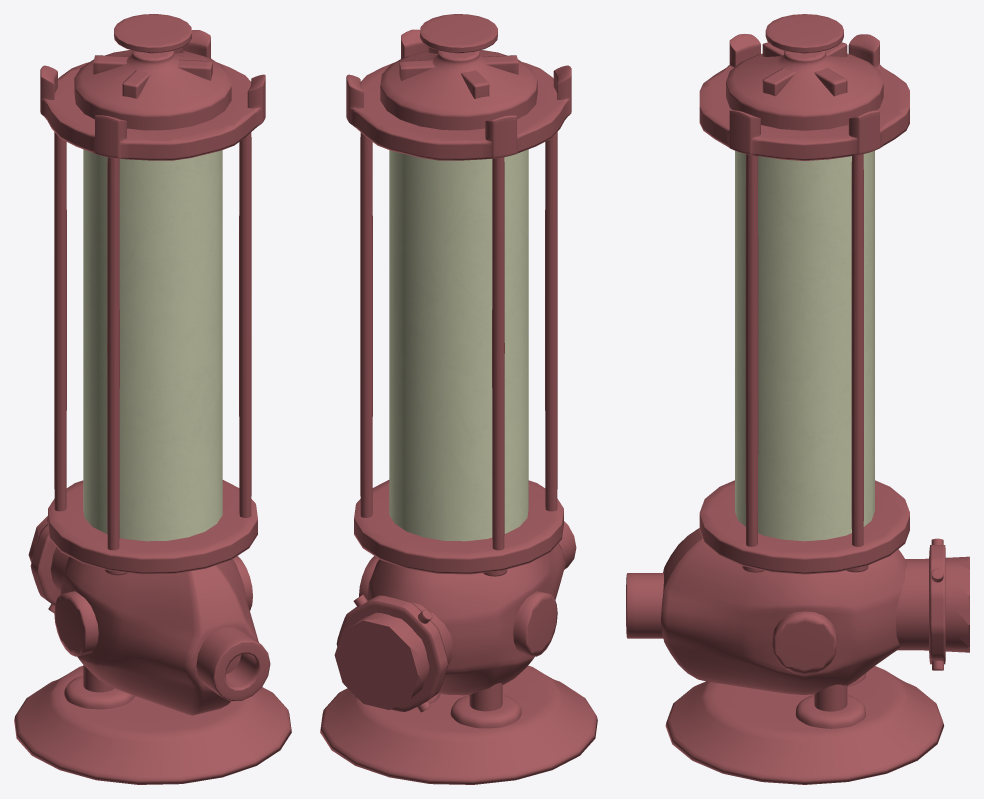
Rendered from Chemblender.glb.
3 renders of one model, left to right at view 1: azimuth 30°, elevation 25°; view 2: azimuth 150°, elevation 25°; view 3: azimuth 270°, elevation 25°, orthographic.
Parts seen in each view (by area): view 1: chemicalblender:body_low; view 2: chemicalblender:body_low; view 3: chemicalblender:body_low.
Part boxes in pixels (x1,y1,x2,y2): chemicalblender:body_low: (14,14,291,784); chemicalblender:body_low: (320,14,597,784); chemicalblender:body_low: (626,14,969,784).
Bounding box in the file's own units: 2.93 × 8.11 × 3.6.
Materials: 2 (2 with a texture image).
